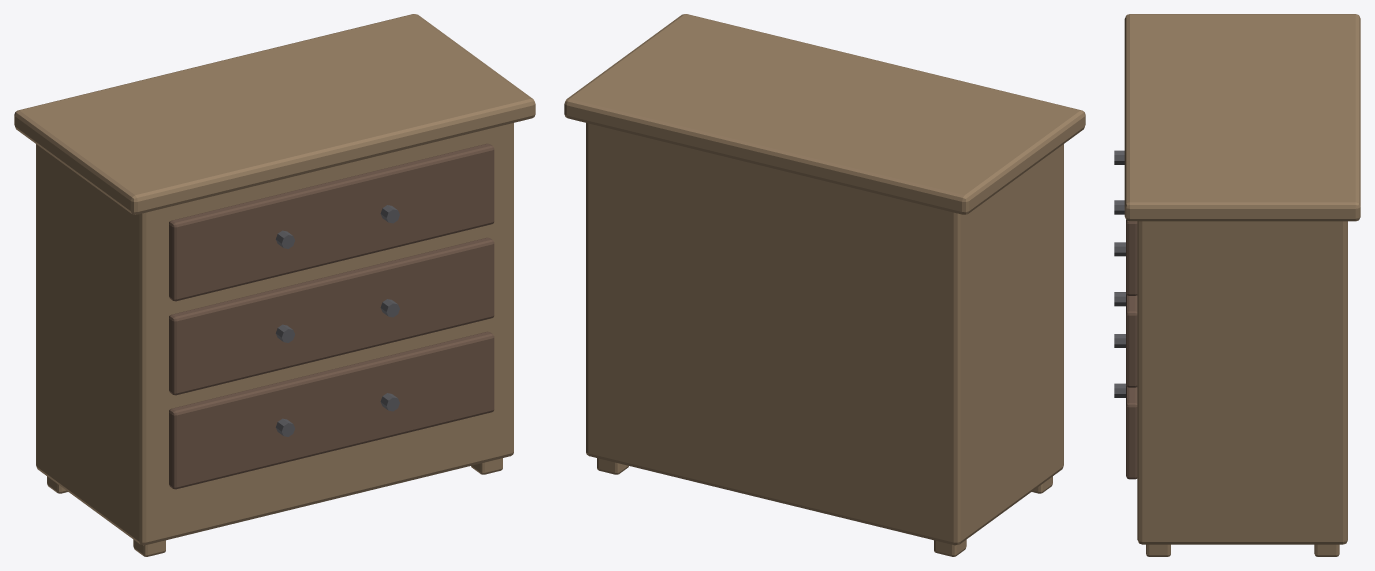
3 renders of one model, left to right at view 1: azimuth 30°, elevation 25°; view 2: azimuth 150°, elevation 25°; view 3: azimuth 270°, elevation 25°, orthographic. The views are drawn at different scales.
Visible parts, largest first — view 1: dresser; view 2: dresser; view 3: dresser.
Boxes of the visible parts, x1=… form: dresser: x1=14, y1=14, x2=535, y2=556; dresser: x1=564, y1=14, x2=1085, y2=556; dresser: x1=1114, y1=14, x2=1360, y2=556.
Size of the model in its own units: 1.08 by 0.955 by 0.585.
